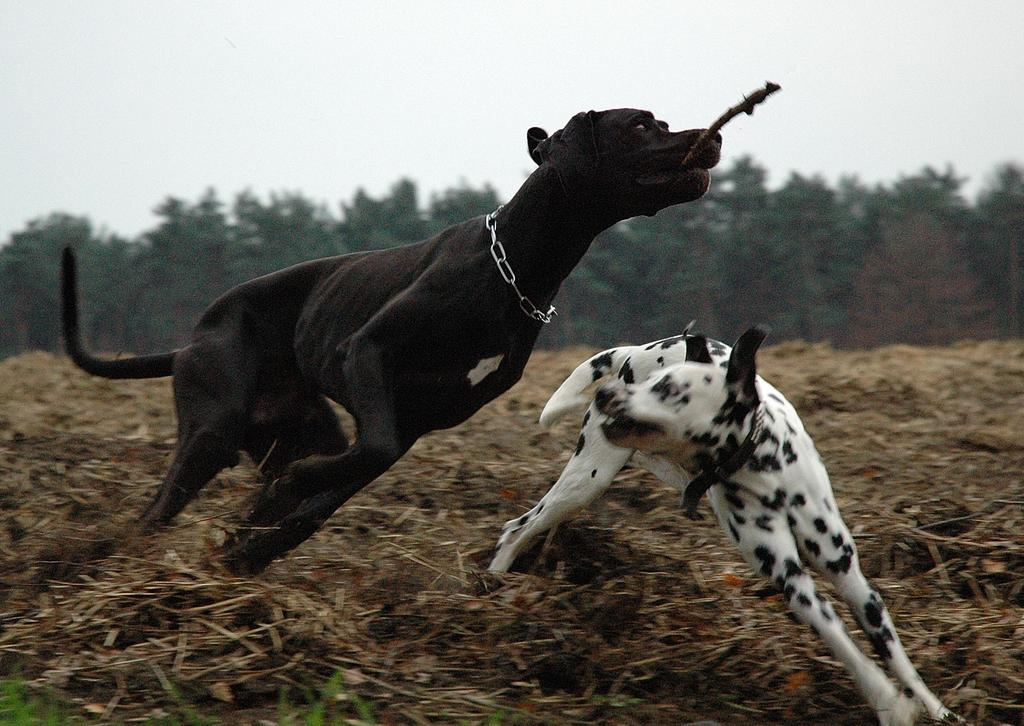Tree: (0, 157, 1022, 353)
